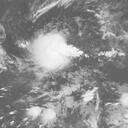cyclone: (29, 32, 71, 71)
